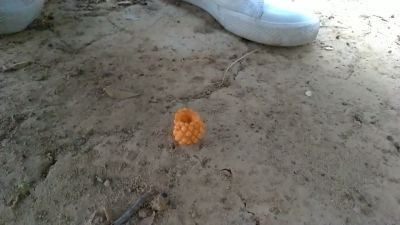eggs: (181, 104, 205, 146)
